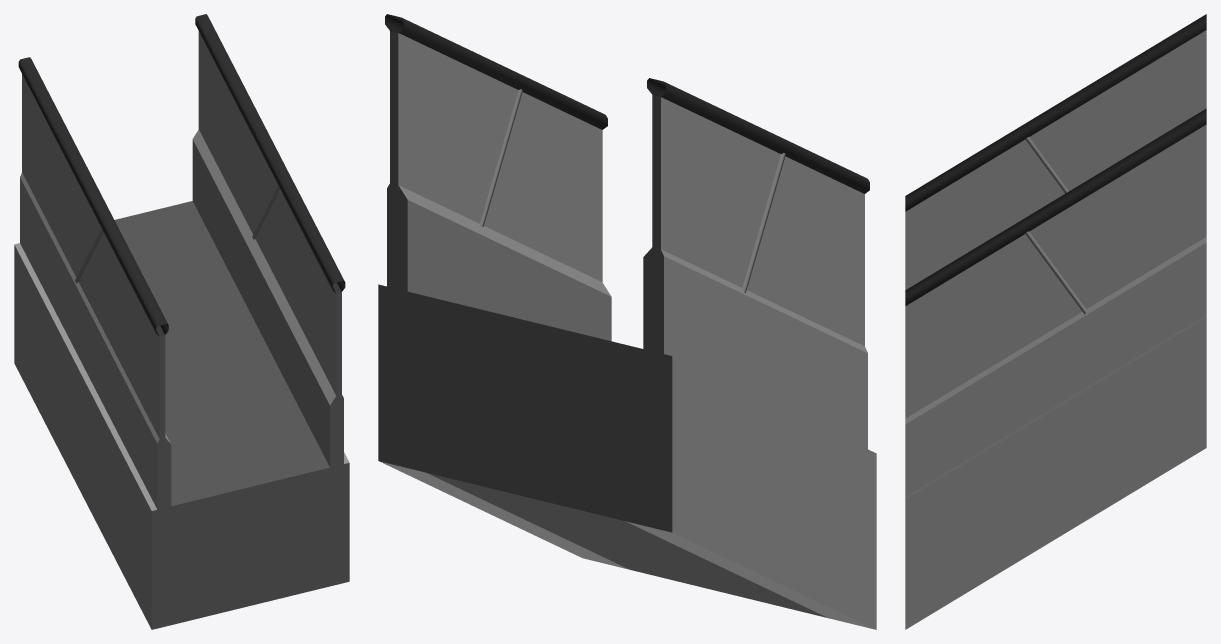
File: SW_ENV_Escalator_5Step_Base.fbx
The picture shows the model from 3 angles, left to right: view 1: azimuth 30°, elevation 25°; view 2: azimuth 150°, elevation 25°; view 3: azimuth 270°, elevation 25°; orthographic projection. The views are drawn at different scales.
Parts seen in each view (by area): view 1: SW_ENV_Escalator_5Step_Base; view 2: SW_ENV_Escalator_5Step_Base; view 3: SW_ENV_Escalator_5Step_Base.
Part boxes in pixels (bbox=[...]): SW_ENV_Escalator_5Step_Base: bbox=[14, 14, 349, 629]; SW_ENV_Escalator_5Step_Base: bbox=[378, 14, 876, 629]; SW_ENV_Escalator_5Step_Base: bbox=[905, 14, 1206, 629].
Bounding box in the file's own units: 1.25 × 2.82 × 1.5.
